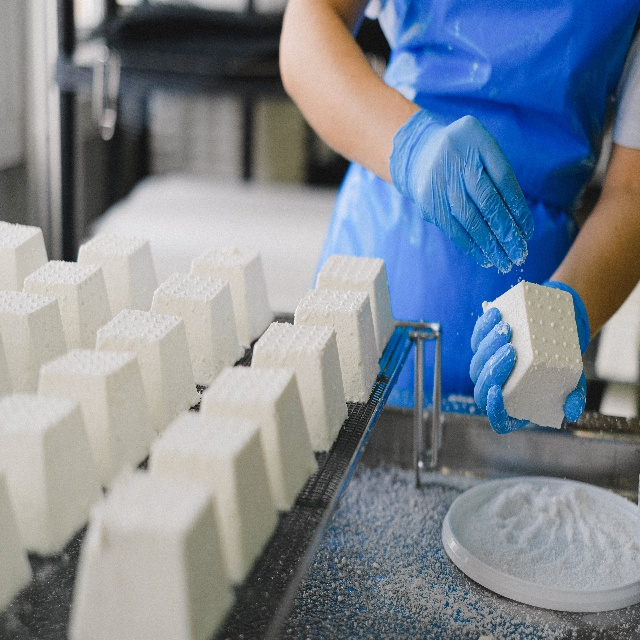Guantes: (389, 108, 534, 275), (468, 279, 590, 435)
